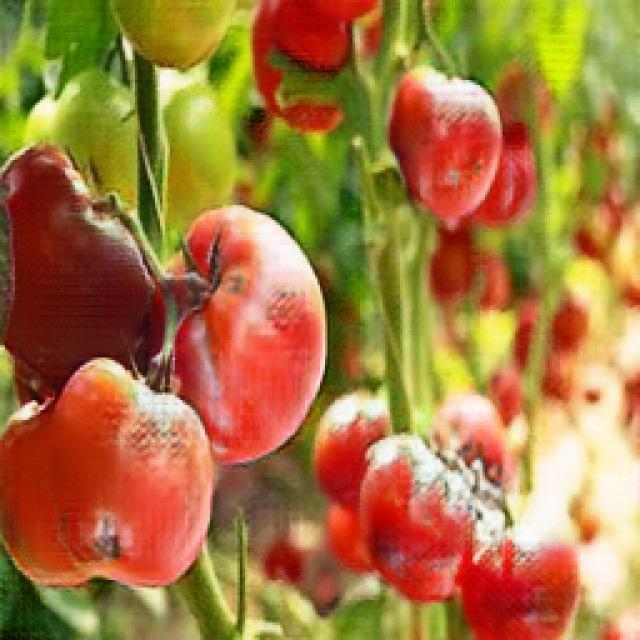overripe tomato: (7, 360, 205, 592), (163, 207, 322, 461), (389, 68, 508, 230), (366, 441, 476, 602)
